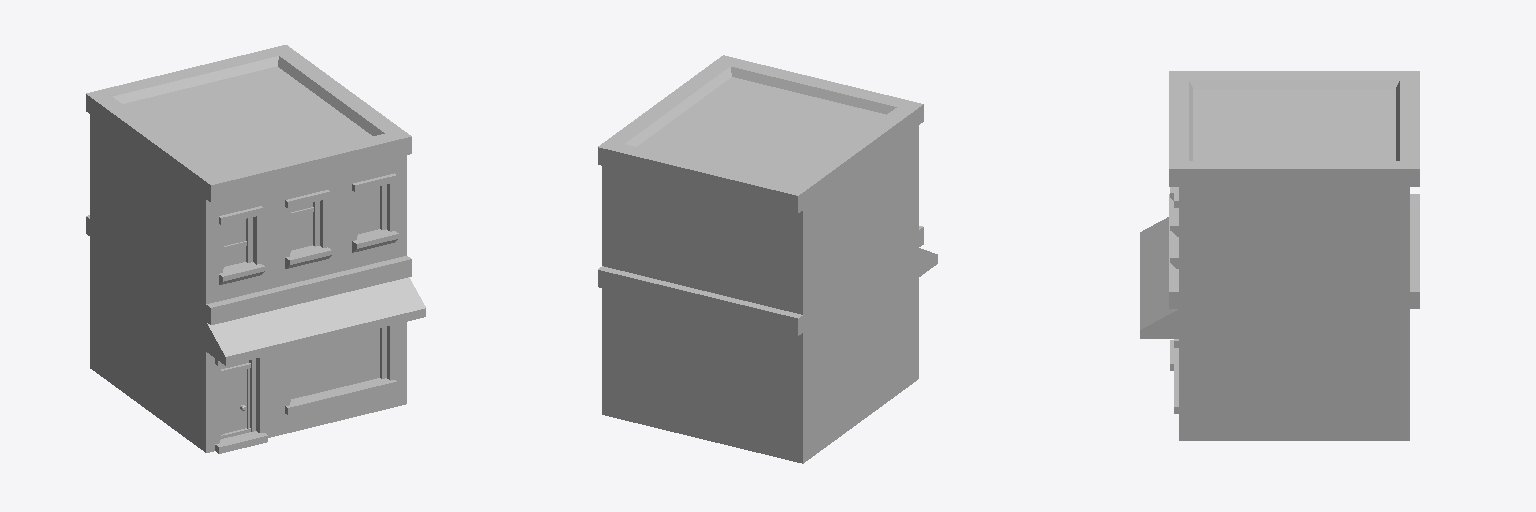
Rendered from building.obj.
The picture shows the model from 3 angles: view 1: azimuth 30°, elevation 25°; view 2: azimuth 150°, elevation 25°; view 3: azimuth 270°, elevation 25°; orthographic projection.
Visible parts, largest first — view 1: building_A_withoutBase; view 2: building_A_withoutBase; view 3: building_A_withoutBase.
Part boxes in pixels (x1,y1,x2,y2): building_A_withoutBase: (86, 45, 425, 453); building_A_withoutBase: (598, 55, 937, 463); building_A_withoutBase: (1140, 71, 1419, 440).
Size of the model in its own units: 1.21 by 1.55 by 1.45.